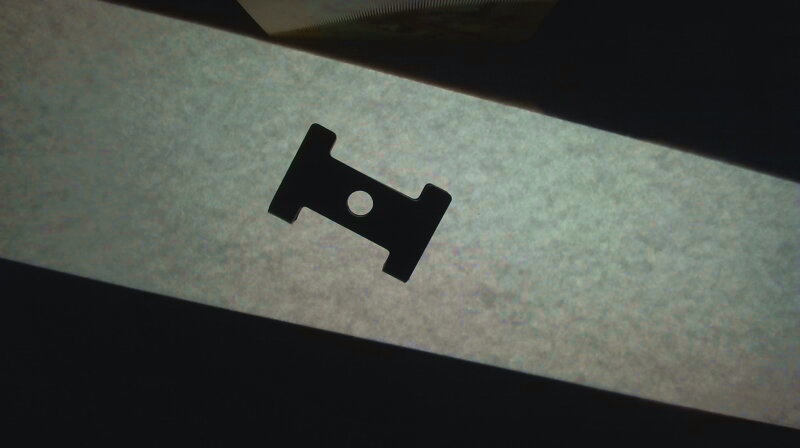O002: (263, 121, 453, 284)
